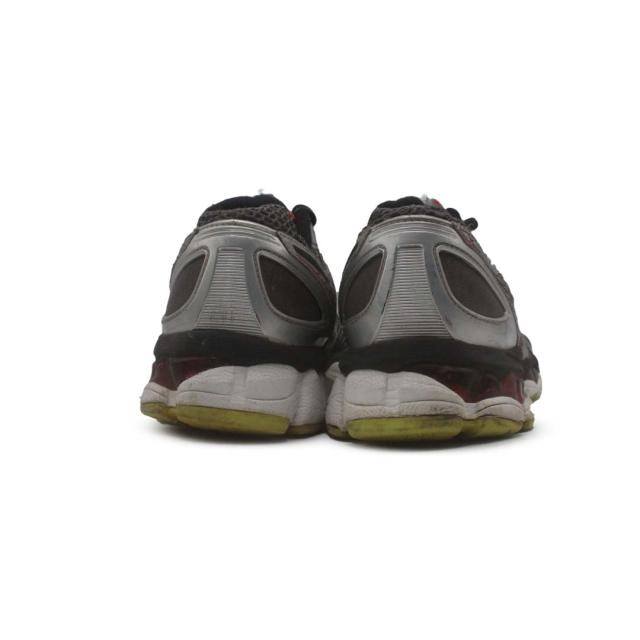heel: (161, 198, 334, 358), (337, 205, 520, 355)
midsole: (331, 345, 532, 445), (136, 331, 330, 433)
